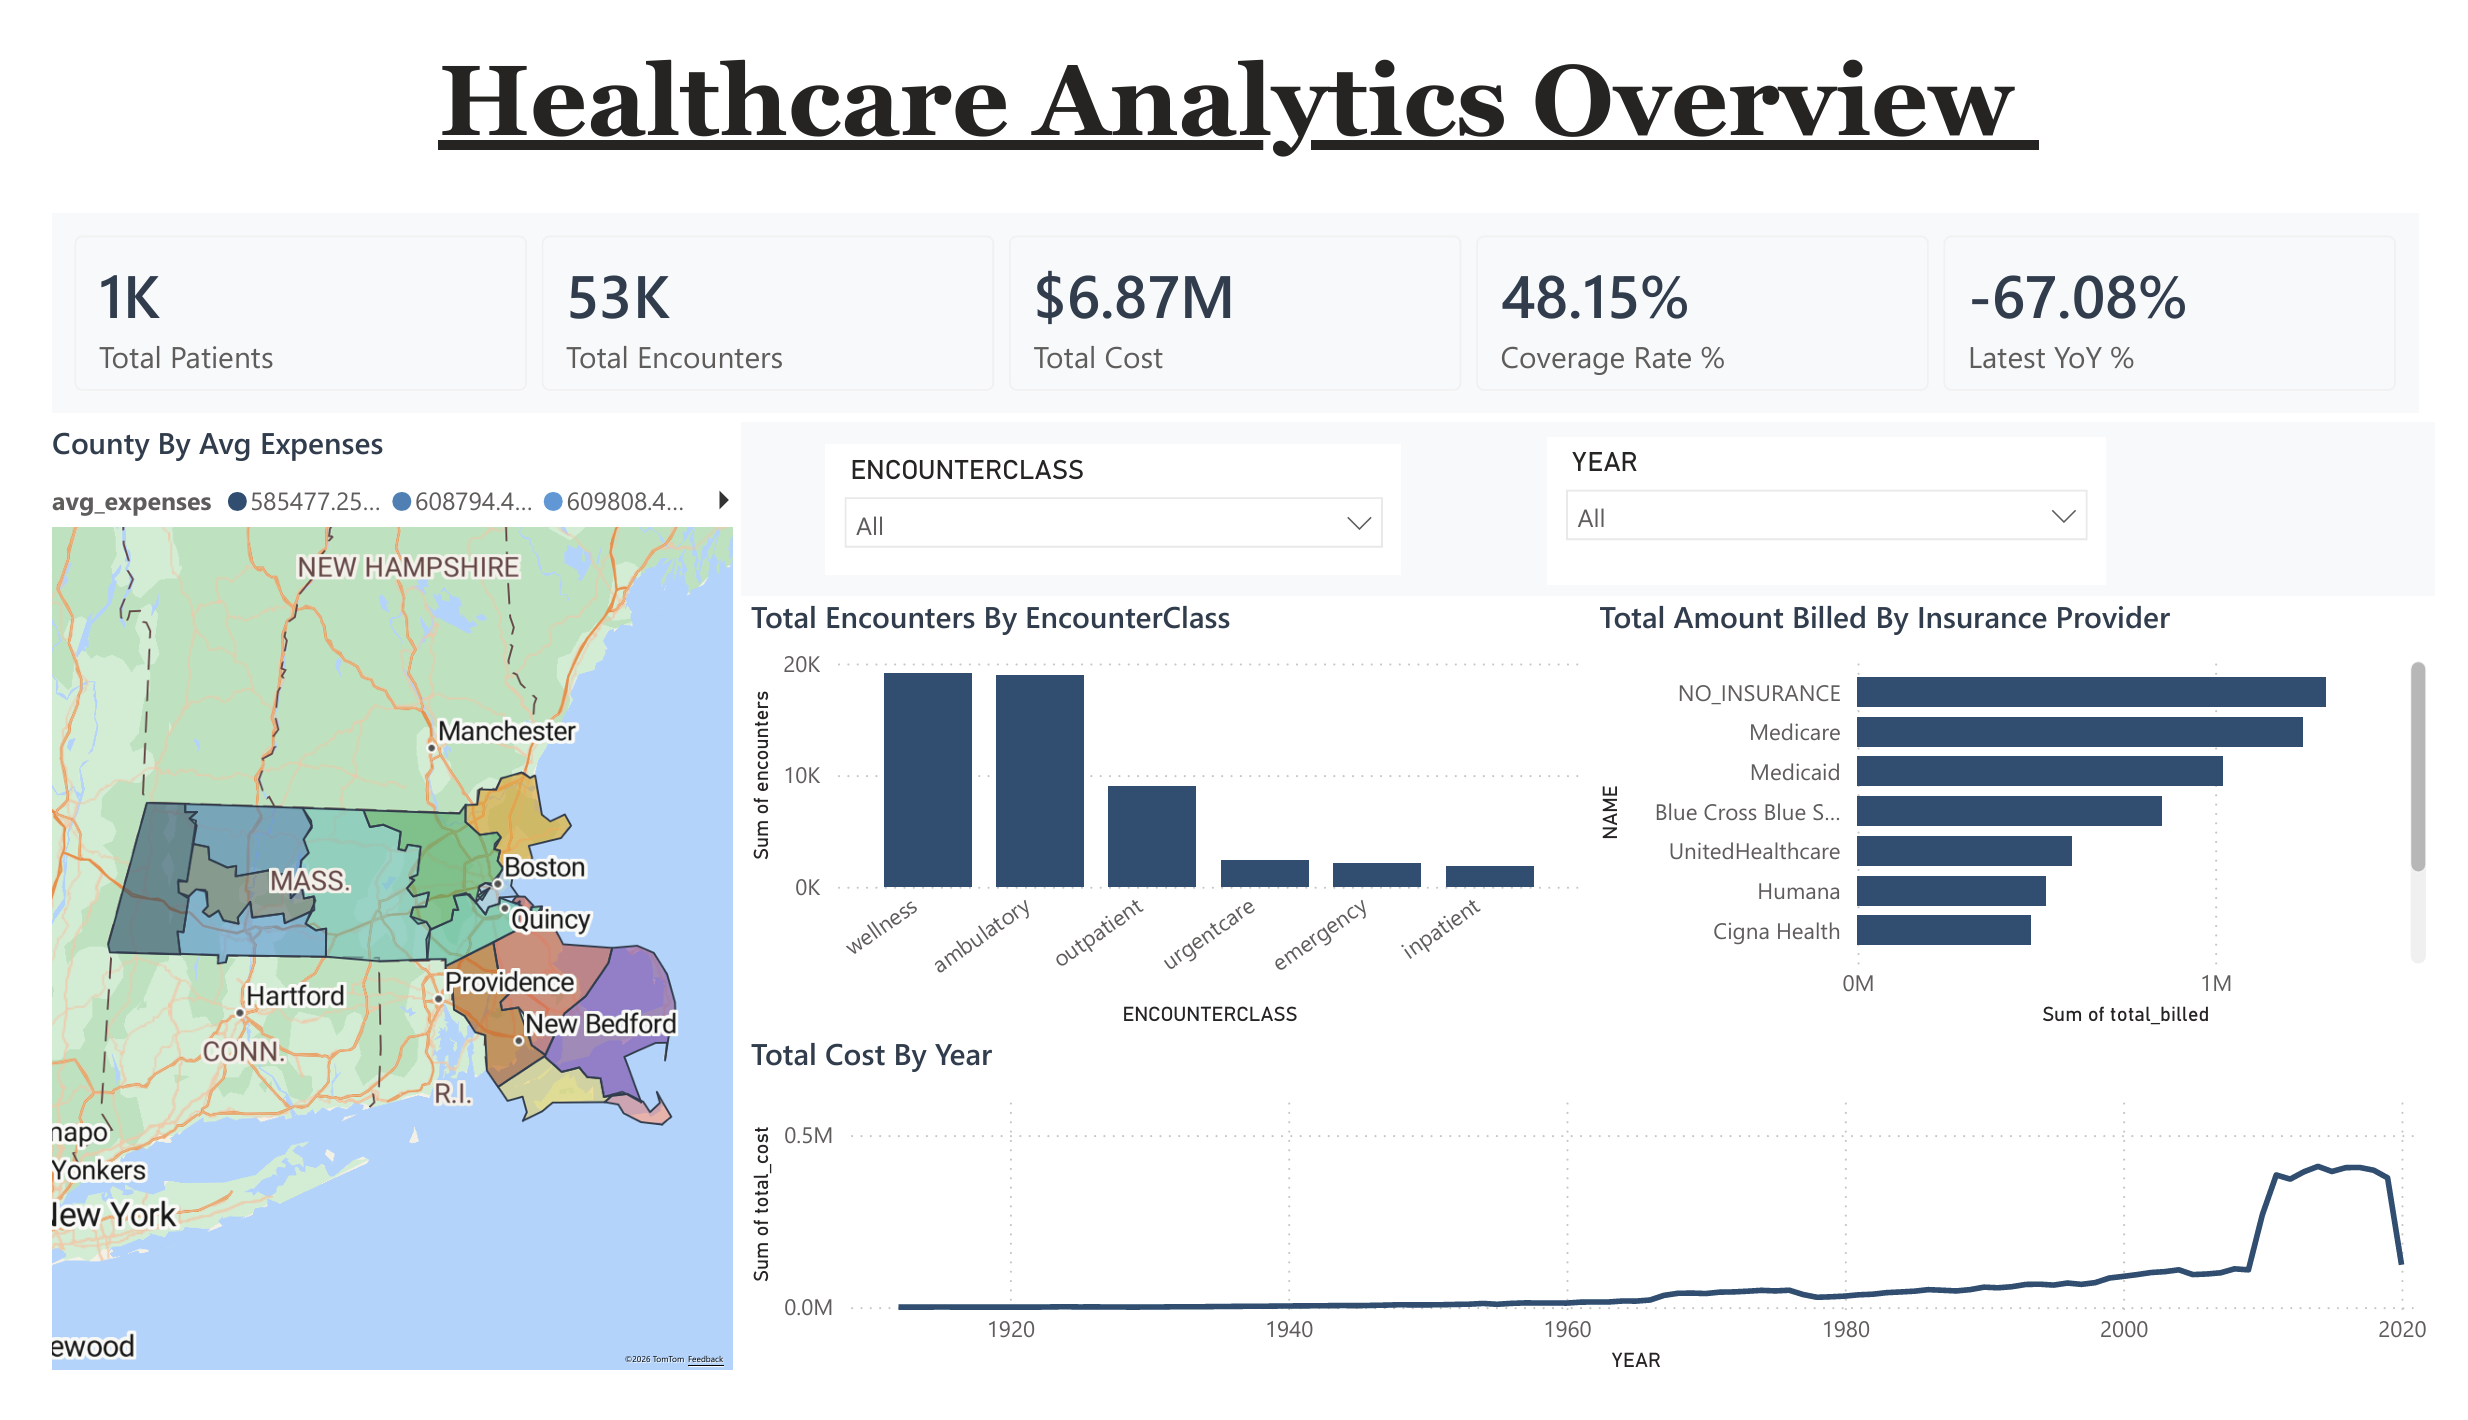

The page's visual inventory and layout, read from the dashboard file:
{"tool":"powerbi","page":{"name":"Overview","canvas":[1280,720],"ordinal":0},"visuals":[{"type":"textbox","box":[0,0,1280,90.9],"z":0},{"type":"cardVisual","fields":{"Data":["Measures_Table.Total Patients","Measures_Table.Total Encounters","Measures_Table.Total Cost","Measures_Table.Coverage Rate %","Measures_Table.Latest YoY %"]},"box":[0,90.9,1280,117.3],"z":1000},{"type":"lineChart","title":"Total Cost By Year","fields":{"Y":["Sum(financial_yearly_trends.total_cost)"],"Category":["financial_yearly_trends.YEAR"]},"box":[373.9,535.2,906.1,184.7],"z":2000},{"type":"clusteredColumnChart","title":"Total Encounters By EncounterClass","fields":{"Category":["utilization_monthly.ENCOUNTERCLASS"],"Y":["Sum(utilization_monthly.encounters)"]},"box":[373.9,300.6,454.5,234.6],"z":3000},{"type":"barChart","title":"Total Amount Billed By Insurance Provider","fields":{"Category":["payer_performance_detail.NAME"],"Y":["Sum(payer_performance_detail.total_billed)"]},"box":[828.4,300.6,451.6,234.6],"z":4000},{"type":"azureMap","title":"County By Avg Expenses","fields":{"Category":["county_health_summary.CountyMap"],"Series":["county_health_summary.avg_expenses"]},"box":[0,208.2,373.9,511.7],"z":5000},{"type":"slicer","fields":{"Values":["utilization_monthly.YEAR"]},"box":[804.9,215.5,299.1,79.2],"z":6000},{"type":"slicer","fields":{"Values":["utilization_monthly.ENCOUNTERCLASS"]},"box":[419.3,219.9,307.9,70.4],"z":7000}]}

Visuals, with their boxes in screenshot pixels (x1, y1, x2, y2), scaled from the page's 1280x720 canvas onto the 2468x1420 screenshot:
textbox: {"left": 0, "top": 0, "right": 2467, "bottom": 179}
cardVisual - Measures_Table.Total Patients x Measures_Table.Total Encounters: {"left": 0, "top": 179, "right": 2467, "bottom": 411}
"Total Cost By Year" lineChart: {"left": 721, "top": 1056, "right": 2467, "bottom": 1419}
"Total Encounters By EncounterClass" clusteredColumnChart: {"left": 721, "top": 593, "right": 1597, "bottom": 1056}
"Total Amount Billed By Insurance Provider" barChart: {"left": 1597, "top": 593, "right": 2467, "bottom": 1056}
"County By Avg Expenses" azureMap: {"left": 0, "top": 411, "right": 721, "bottom": 1419}
slicer - utilization_monthly.YEAR: {"left": 1552, "top": 425, "right": 2129, "bottom": 581}
slicer - utilization_monthly.ENCOUNTERCLASS: {"left": 808, "top": 434, "right": 1402, "bottom": 573}
